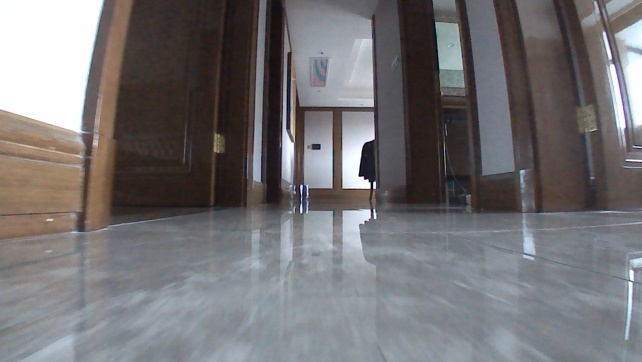door: (491, 0, 641, 216), (111, 0, 261, 210)
